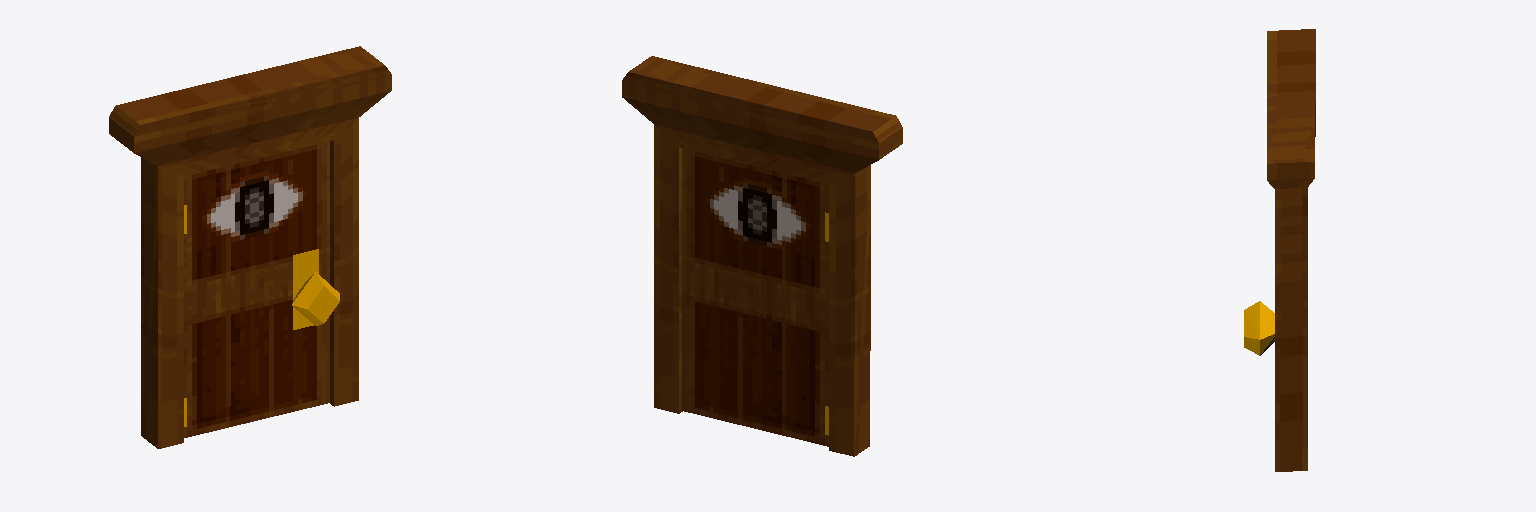
3 renders of one model, left to right at view 1: azimuth 30°, elevation 25°; view 2: azimuth 150°, elevation 25°; view 3: azimuth 270°, elevation 25°, orthographic.
Visible parts, largest first — view 1: DrawCall_94; view 2: DrawCall_94; view 3: DrawCall_94.
Boxes of the visible parts, <box> form: DrawCall_94: <box>109,46,391,448</box>; DrawCall_94: <box>622,56,902,456</box>; DrawCall_94: <box>1244,29,1315,471</box>.
Size of the model in its own units: 11.19 by 13.84 by 2.69.
1 materials, 1 textured.